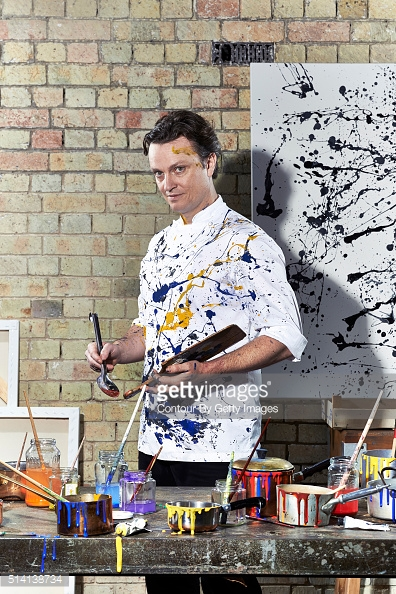em pe: (105, 121, 282, 444)
